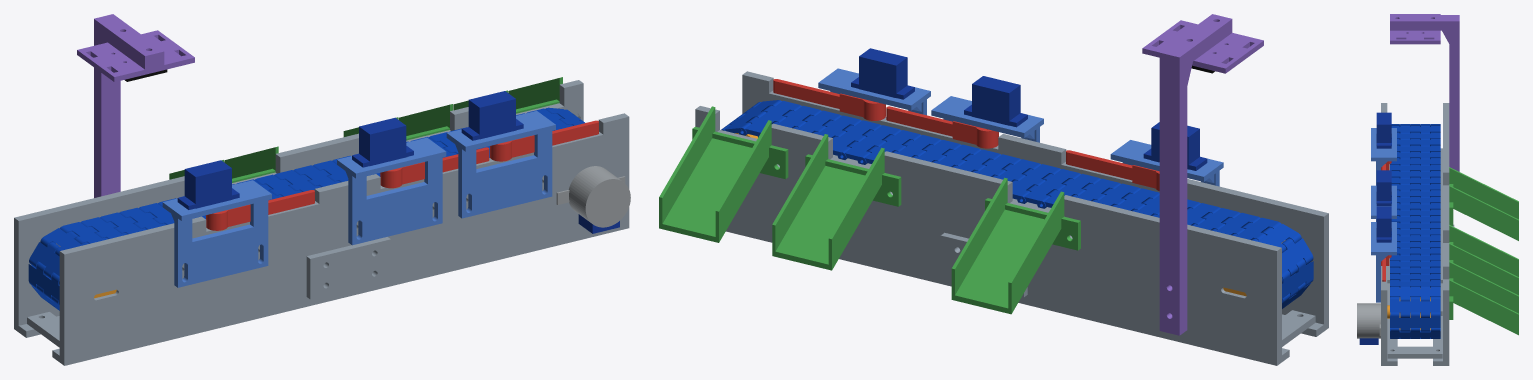
Rendered from conveyor_assembly.glb.
3 renders of one model, left to right at view 1: azimuth 30°, elevation 25°; view 2: azimuth 150°, elevation 25°; view 3: azimuth 270°, elevation 25°, orthographic. The views are drawn at different scales.
Parts seen in each view (by area): view 1: Wall_load_A, Wall_drive_A, Belt, Servo_Bracket_3, Servo_Bracket_1, Servo_Bracket_2, Wall_load_B, Camera_Mast, Splice_a, Motor_28BYJ48, Wall_drive_B, Camera_Plate (+10 smaller); view 2: Wall_load_B, Belt, Wall_drive_B, Camera_Mast, Chute_3, Chute_2, Chute_1, Wall_load_A, Wall_drive_A, Camera_Plate, Servo_SG90_3, Servo_SG90_2 (+9 smaller); view 3: Belt, Chute_3, Chute_1, Camera_Mast, Chute_2, Wall_drive_B, Wall_drive_A, Motor_28BYJ48, Servo_Bracket_3, Wall_load_B, Camera_Plate, Tie_4 (+6 smaller).
Boxes of the visible parts, <box> form: Wall_load_A: <box>52,182,346,365</box>; Wall_drive_A: <box>342,113,629,296</box>; Belt: <box>28,107,584,310</box>; Servo_Bracket_3: <box>446,111,555,218</box>; Servo_Bracket_1: <box>162,180,271,287</box>; Servo_Bracket_2: <box>337,137,446,245</box>; Wall_load_B: <box>14,149,301,337</box>; Camera_Mast: <box>94,14,164,197</box>; Splice_a: <box>306,237,390,299</box>; Motor_28BYJ48: <box>556,166,630,227</box>; Wall_drive_B: <box>297,80,583,167</box>; Camera_Plate: <box>77,30,194,82</box>; Wall_load_B: <box>986,177,1289,365</box>; Belt: <box>721,100,1313,308</box>; Wall_drive_B: <box>695,106,990,286</box>; Camera_Mast: <box>1159,14,1232,335</box>; Chute_3: <box>659,106,788,242</box>; Chute_2: <box>772,134,901,270</box>; Chute_1: <box>951,177,1080,314</box>; Wall_load_A: <box>1033,142,1328,336</box>; Wall_drive_A: <box>742,71,1037,161</box>; Camera_Plate: <box>1142,20,1263,73</box>; Servo_SG90_3: <box>851,48,914,99</box>; Servo_SG90_2: <box>964,76,1027,127</box>; Belt: <box>1390,124,1440,338</box>; Chute_3: <box>1449,261,1518,335</box>; Chute_1: <box>1449,167,1518,240</box>; Camera_Mast: <box>1390,15,1459,171</box>; Chute_2: <box>1449,225,1518,295</box>; Wall_drive_B: <box>1433,196,1449,365</box>; Wall_drive_A: <box>1381,258,1397,365</box>; Motor_28BYJ48: <box>1357,303,1380,338</box>; Servo_Bracket_3: <box>1371,222,1396,302</box>; Wall_load_B: <box>1440,103,1449,211</box>; Camera_Plate: <box>1390,14,1440,44</box>; Tie_4: <box>1387,346,1442,358</box>.
Size of the model in its own units: 0.35 by 0.168 by 0.128.
